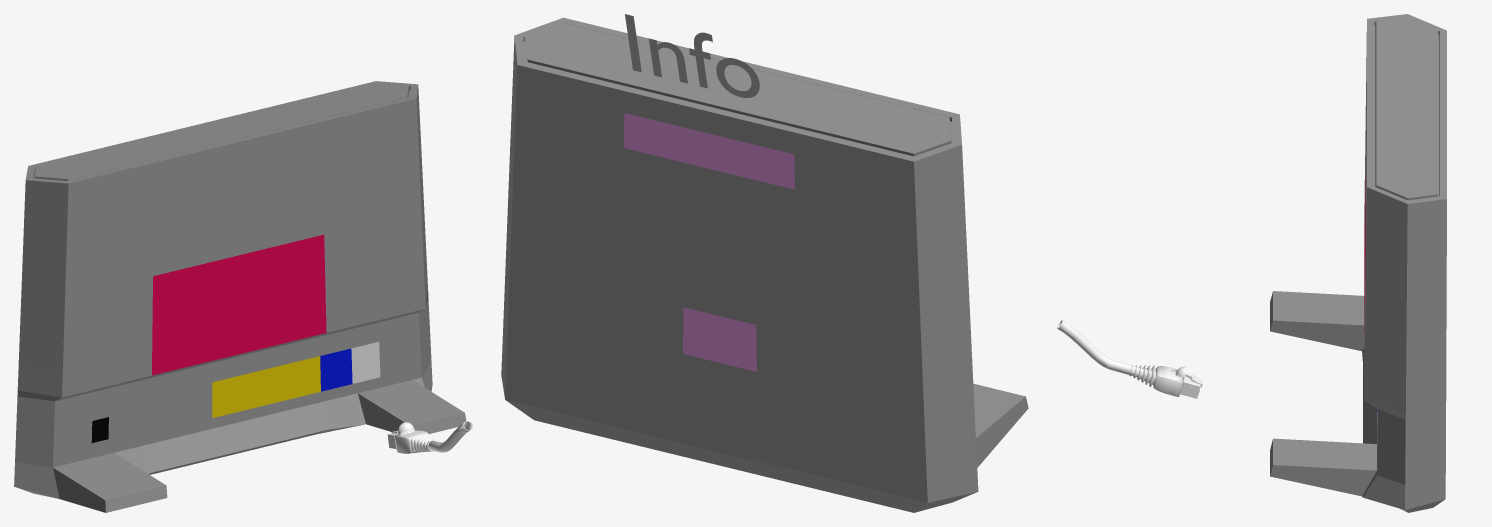
File: modem_test7.glb
The picture shows the model from 3 angles, left to right: view 1: azimuth 30°, elevation 25°; view 2: azimuth 150°, elevation 25°; view 3: azimuth 270°, elevation 25°; orthographic projection. The views are drawn at different scales.
Visible parts, largest first — view 1: modemlp, lan; view 2: modemlp, Text; view 3: modemlp, lan.
Part boxes in pixels (x1=…): modemlp: x1=14, y1=81, x2=466, y2=512; lan: x1=387, y1=421, x2=472, y2=453; modemlp: x1=501, y1=17, x2=1028, y2=512; Text: x1=625, y1=14, x2=759, y2=97; modemlp: x1=1270, y1=14, x2=1446, y2=512; lan: x1=1057, y1=320, x2=1202, y2=398.
Bounding box in the file's own units: 1.07 × 0.978 × 0.9427.
